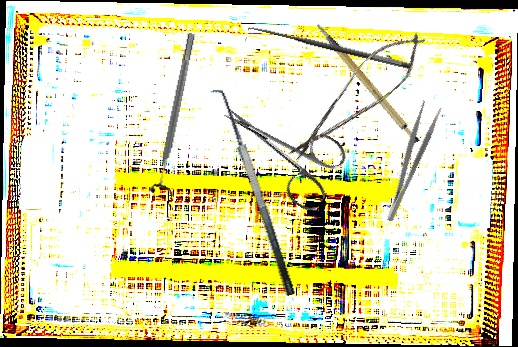Dressing Forceps: (374, 99, 444, 224)
Fixation Ring: (147, 31, 205, 197)
Hook Surgical: (244, 21, 412, 82)
Iris Scissors: (204, 81, 355, 216)
Micro Scissor: (279, 20, 436, 174)
Scalpel Handle: (316, 10, 422, 155)
Spatula Surgical: (204, 84, 298, 302)
